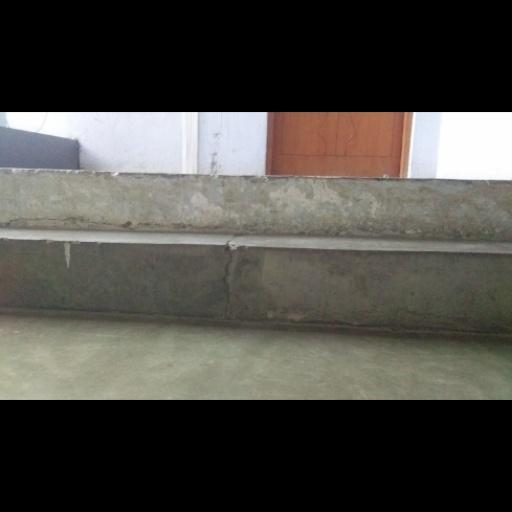stairs: (0, 171, 511, 332)
